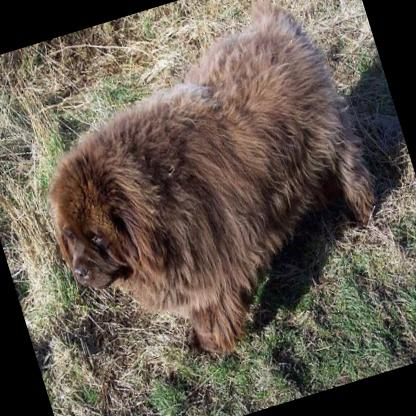Newfoundland: (4, 0, 410, 395)
